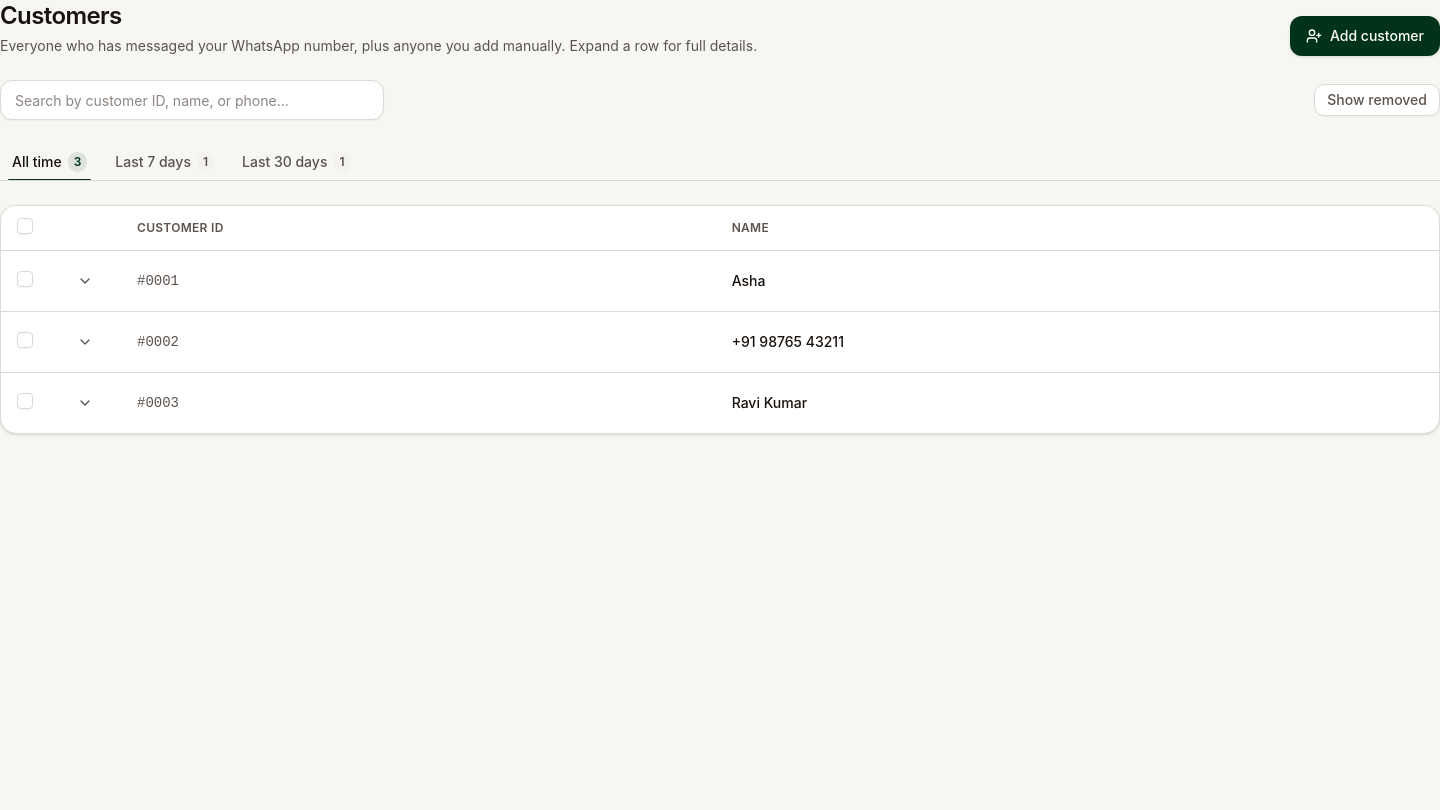
it: CustomersPage › does not remove the customer when the confirmation dialog is dismissed
The image size is (1440, 810).
Click the button named "Expand Asha". click: (85, 280)
box: 65,260 -> 105,300
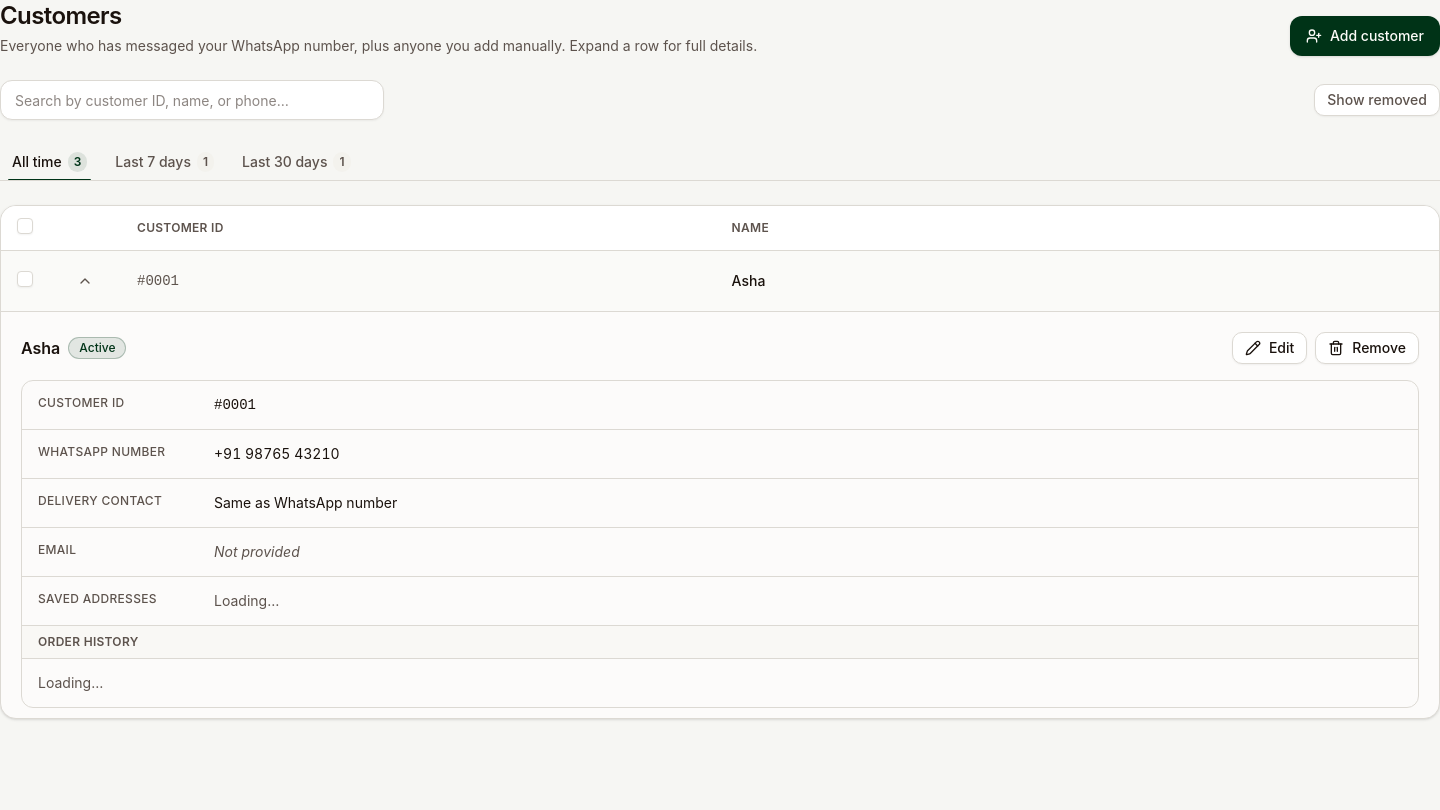
Click the button with aria-label "Remove Asha". click: (1367, 348)
box: 1315,332 -> 1419,364
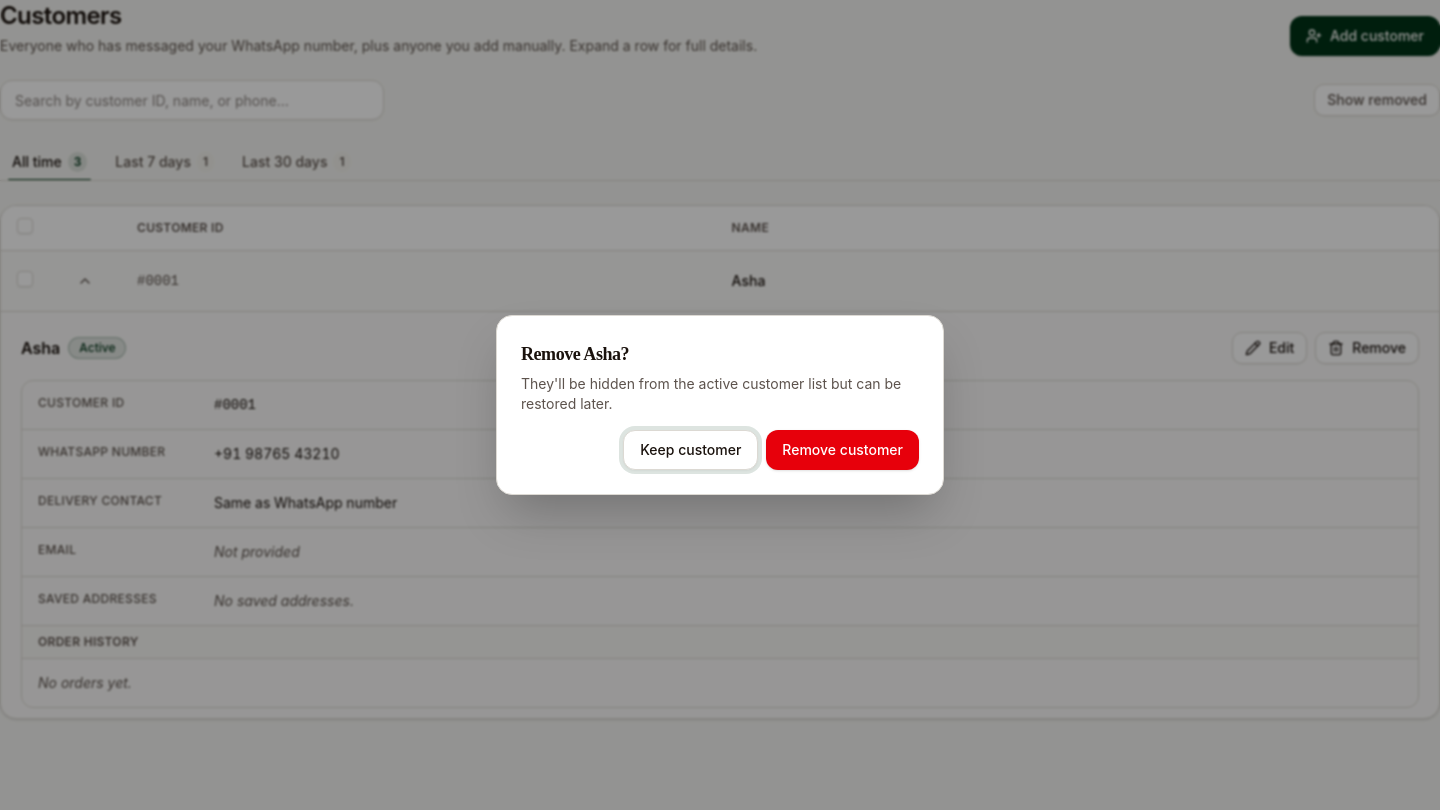
Now the dialog is shown, box 496,315 -> 944,495
Click the button "Keep customer". click: (691, 450)
box: 623,430 -> 758,470
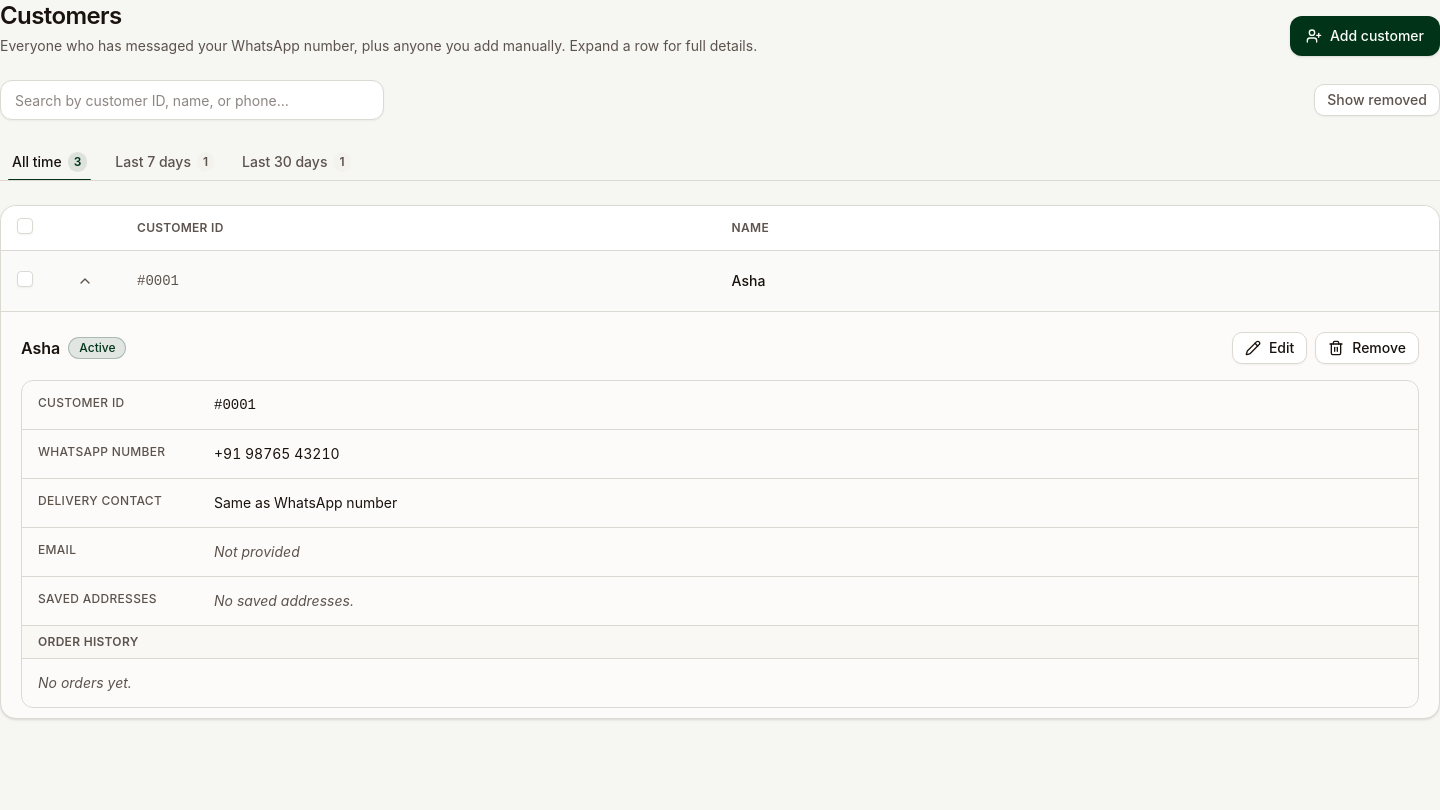
Now the dialog is gone
